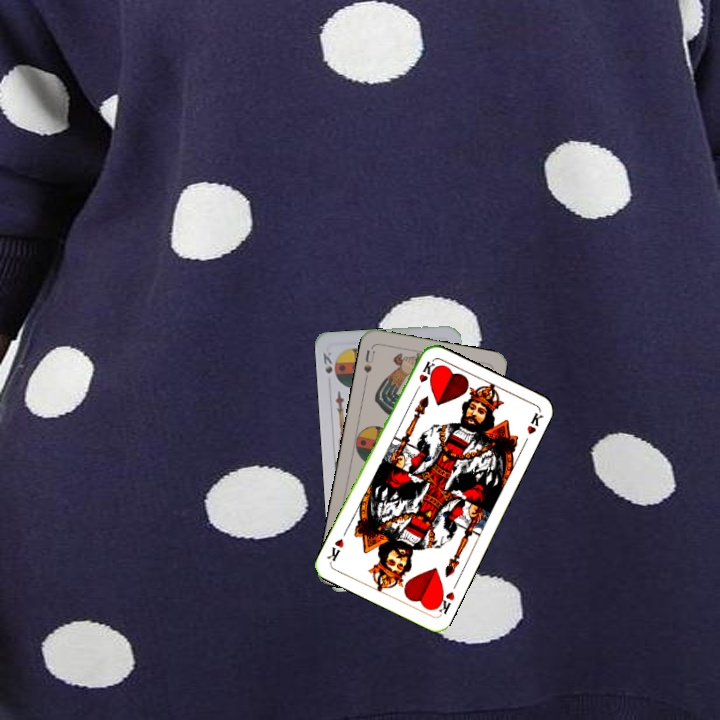HK: (411, 357, 437, 396), (430, 587, 457, 618)
SK: (319, 348, 335, 376)
SU: (360, 346, 378, 384)
